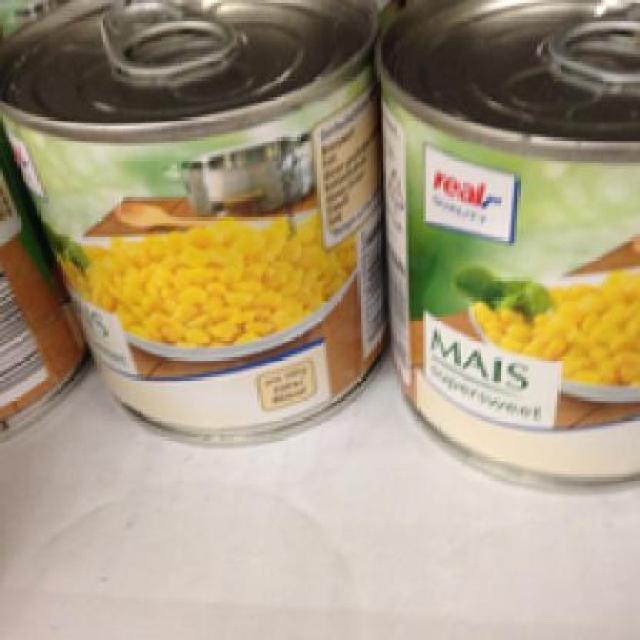Corn: (0, 0, 375, 444), (372, 0, 638, 489)
